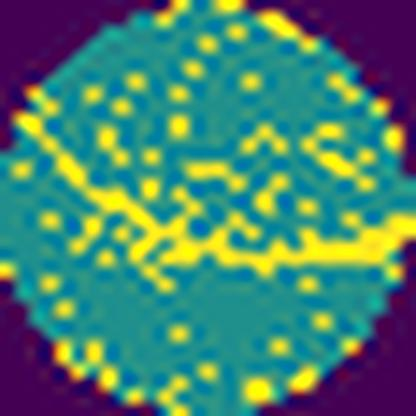Scratch: (8, 105, 416, 302)
